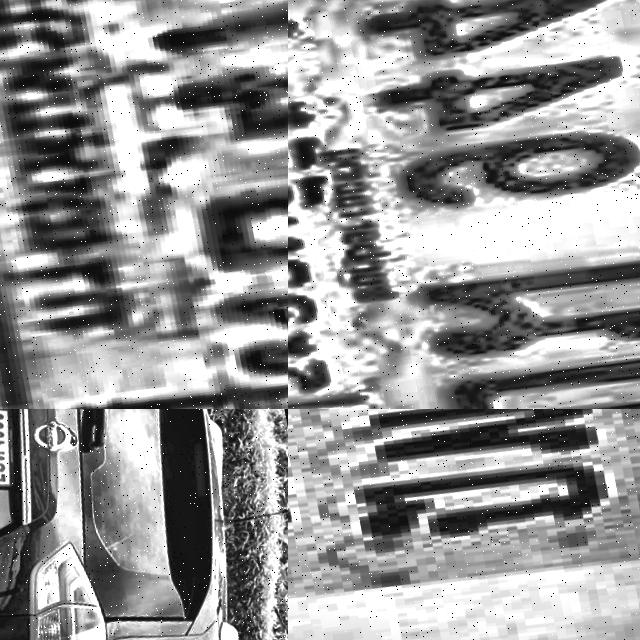license-plate: (288, 0, 640, 409), (0, 0, 288, 409), (288, 409, 640, 640), (0, 409, 29, 496)
